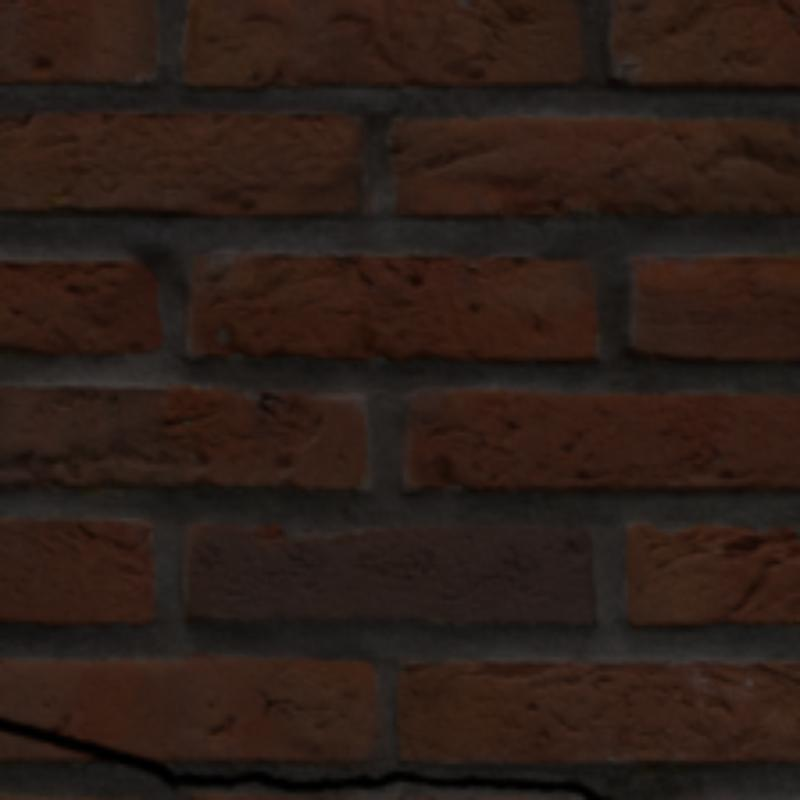crack: (0, 707, 614, 796)
